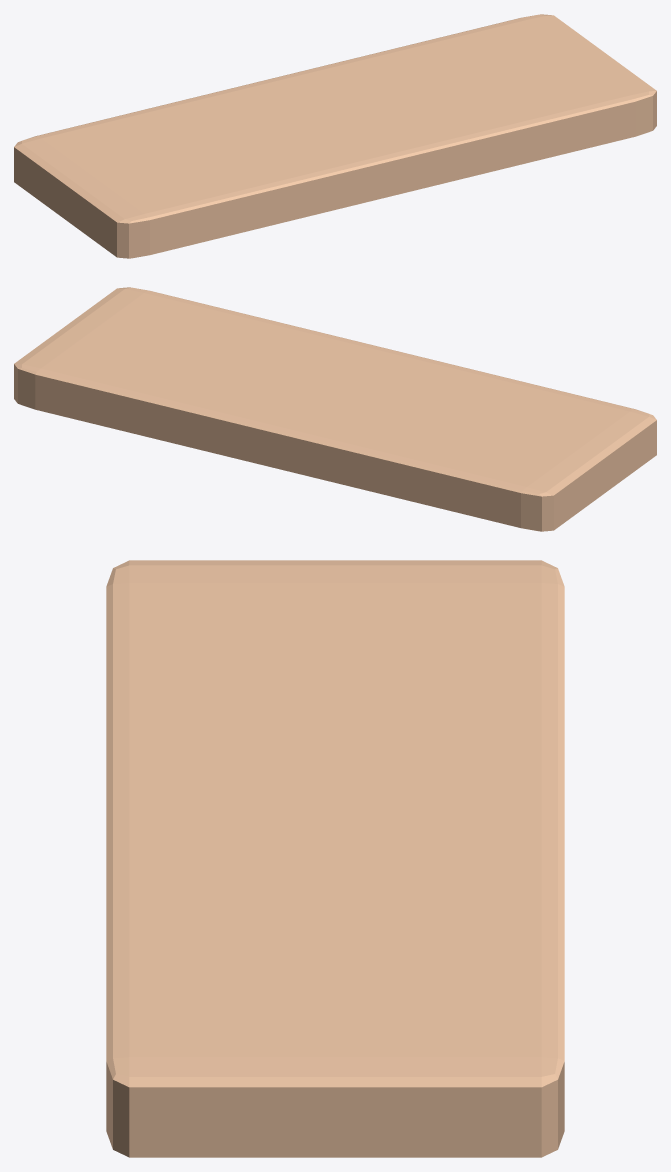
Rendered from Wall_shelf.fbx.
3 renders of one model, top to bottom at view 1: azimuth 30°, elevation 25°; view 2: azimuth 150°, elevation 25°; view 3: azimuth 270°, elevation 25°, orthographic. The views are drawn at different scales.
Visible parts, largest first — view 1: Wall shelf; view 2: Wall shelf; view 3: Wall shelf.
Boxes of the visible parts, x1=… form: Wall shelf: x1=14, y1=14, x2=656, y2=258; Wall shelf: x1=14, y1=287, x2=656, y2=531; Wall shelf: x1=106, y1=560, x2=564, y2=1157.
Size of the model in its own units: 229 by 15.81 by 84.25.
